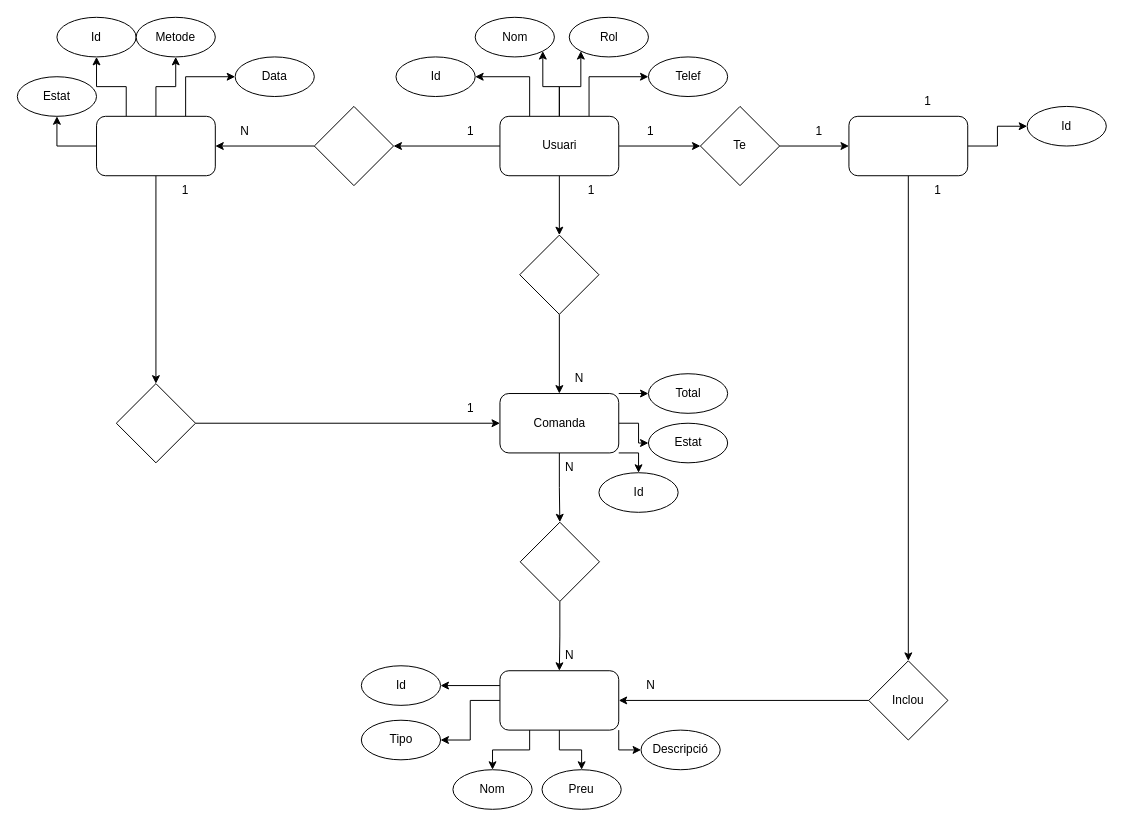
This 1124x827 diagram has some shape labels left out. Each missing label, with the box of its shape:
Associa: (115, 383, 196, 463)
Carrito: (848, 115, 968, 176)
Conté: (519, 521, 599, 601)
Espada Laser: (499, 670, 619, 730)
Fa: (519, 234, 599, 314)
Pagament: (96, 115, 215, 176)
Realitza: (313, 105, 394, 186)
